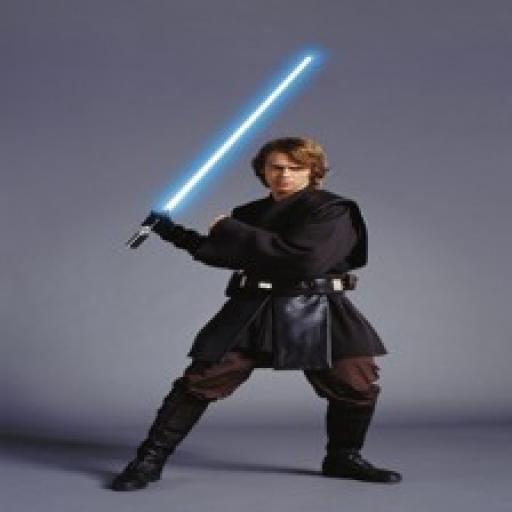human: (84, 126, 419, 495)
lightsaber: (123, 52, 319, 252)
